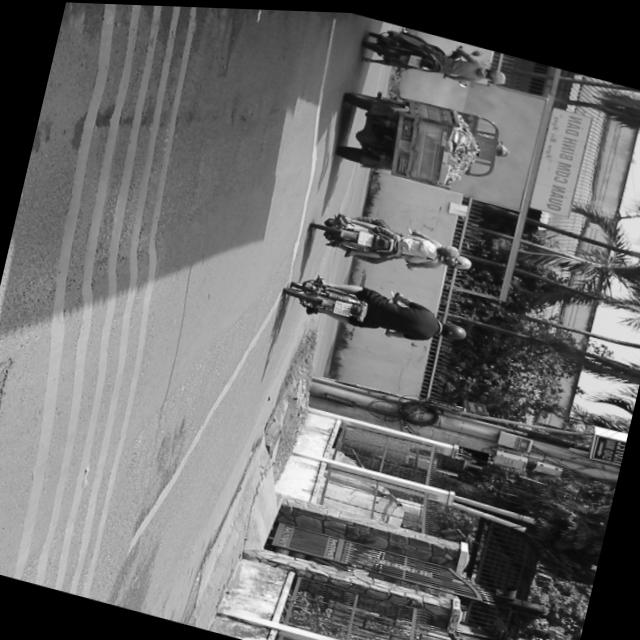helmet: (438, 317, 469, 341)
licenseplate: (283, 263, 474, 355)
nohelmet: (333, 296, 352, 314)
